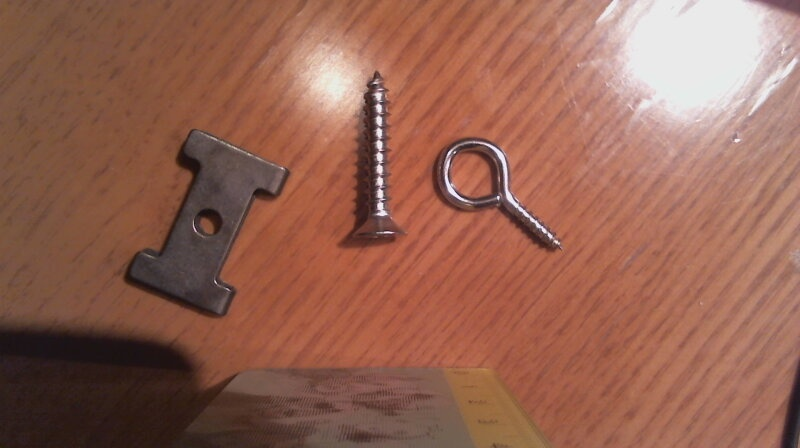O001: (429, 133, 564, 256)
O002: (122, 125, 291, 317)
S001: (349, 69, 410, 244)
